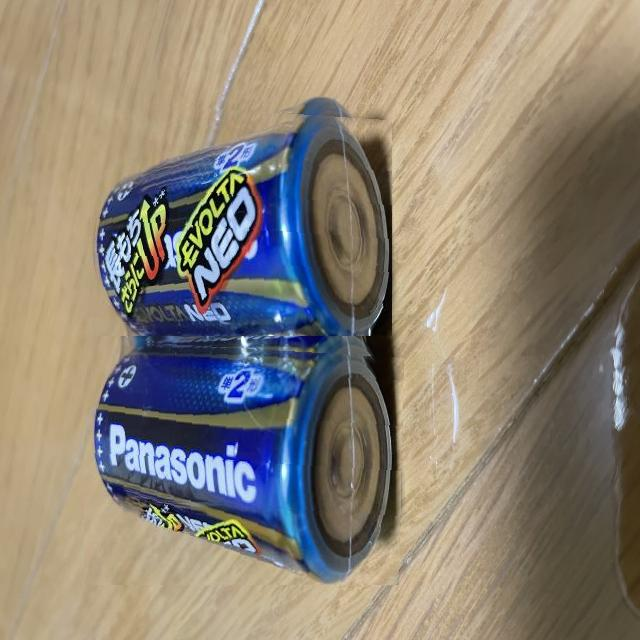battery: (84, 340, 404, 586), (86, 100, 392, 337)
